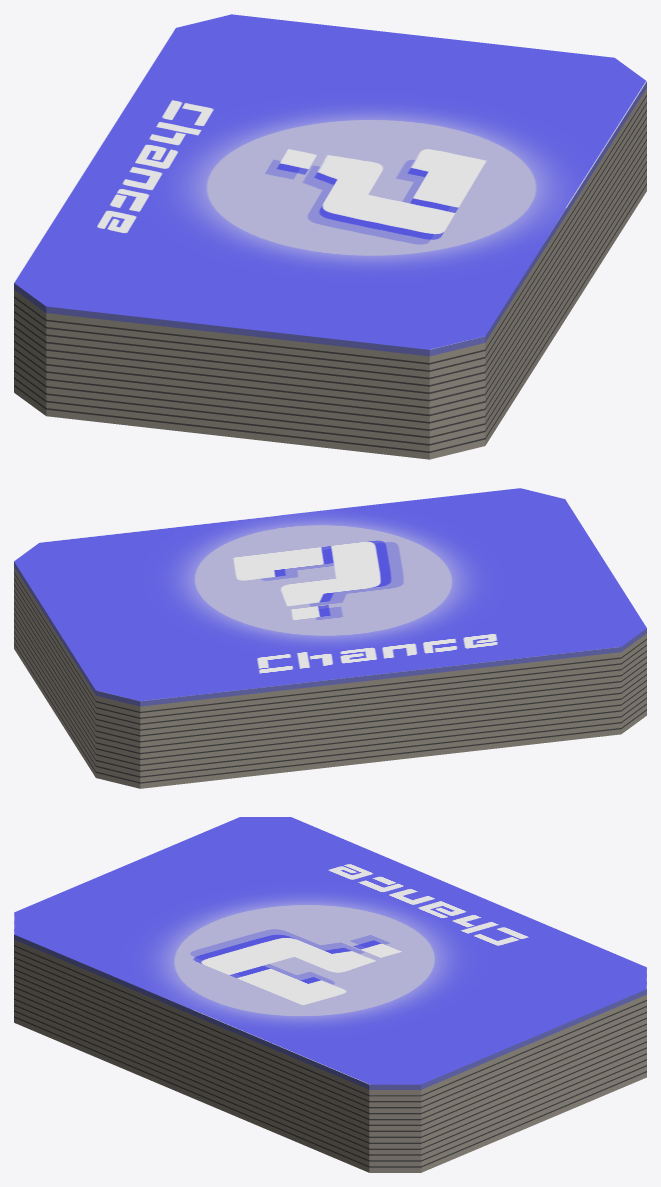
The model's file is chance_card_deck.gltf.
The picture shows the model from 3 angles, top to bottom: view 1: azimuth 30°, elevation 25°; view 2: azimuth 150°, elevation 25°; view 3: azimuth 270°, elevation 25°; orthographic projection. The views are drawn at different scales.
Parts seen in each view (by area): view 1: card_back(2), carddeck(2); view 2: card_back(2), carddeck(2); view 3: card_back(2), carddeck(2).
Part boxes in pixels (x1,y1,x2,y2): card_back(2): (14, 14, 646, 356); carddeck(2): (14, 88, 646, 459); card_back(2): (14, 488, 646, 706); carddeck(2): (14, 567, 646, 788); card_back(2): (14, 817, 646, 1089); carddeck(2): (14, 940, 646, 1172).
Size of the model in its own units: 1.98 by 0.3054 by 1.98.
5 materials, 2 textured.
